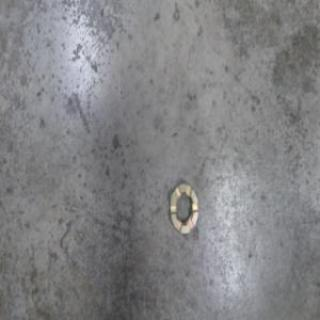Nuttrack_idkeyframe: (168, 178, 198, 237)
